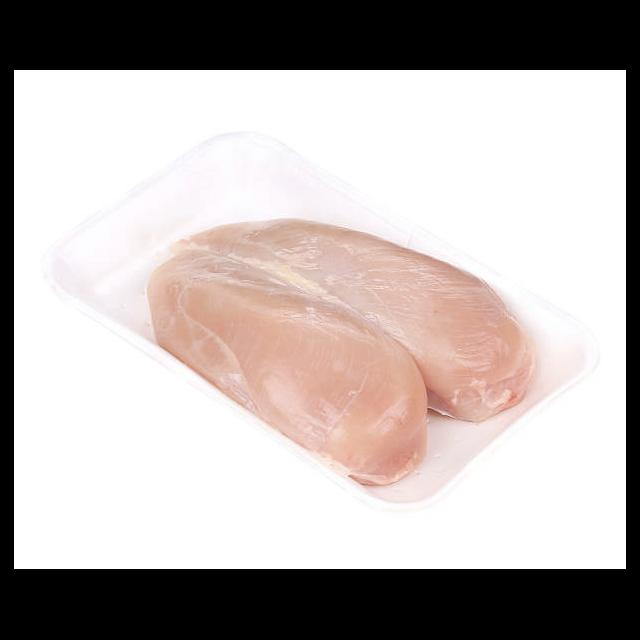chicken: (172, 218, 533, 422), (148, 244, 430, 488)
